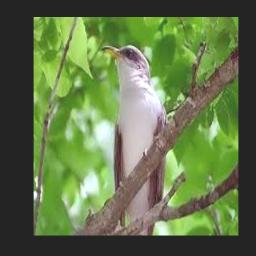Cuckoo: (102, 44, 168, 236)
